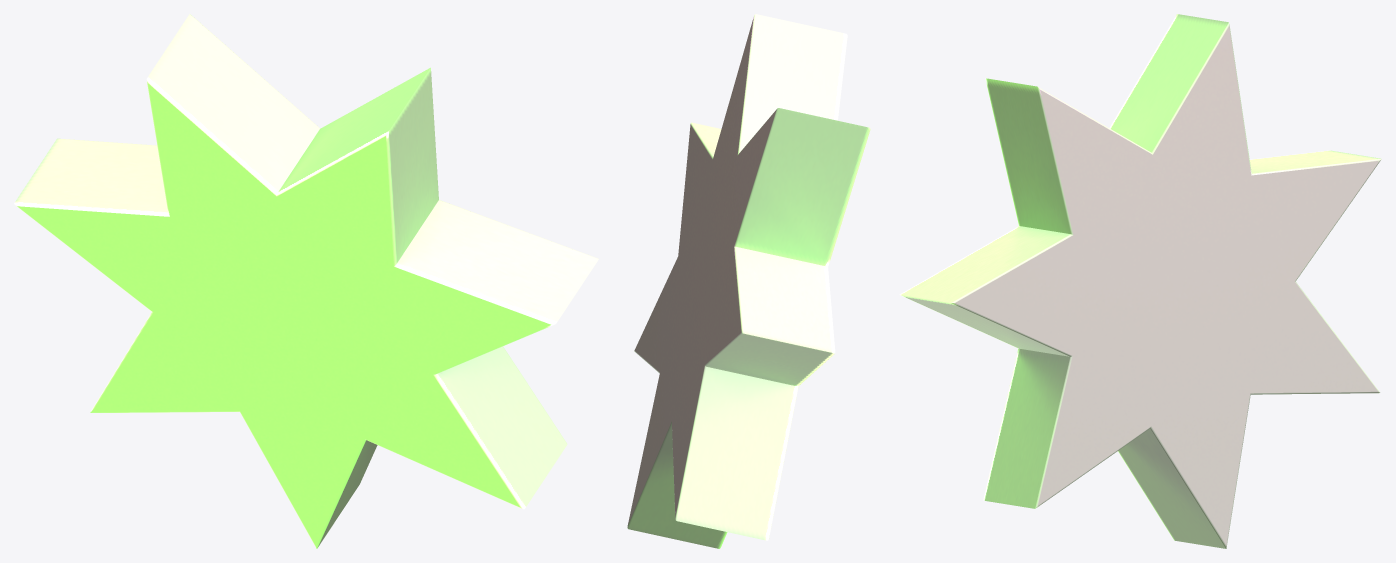
File: WEB_GREENSTAR1.glb
3 views of the same model, side by side, from view 1: azimuth 30°, elevation 25°; view 2: azimuth 150°, elevation 25°; view 3: azimuth 270°, elevation 25° (orthographic). The views are drawn at different scales.
Parts seen in each view (by area): view 1: Fill; view 2: Fill; view 3: Fill.
Part boxes in pixels (x1,y1,x2,y2): Fill: [14, 14, 598, 548]; Fill: [627, 14, 870, 548]; Fill: [899, 14, 1381, 548].
Size of the model in its own units: 1.36 by 1.79 by 1.64.
